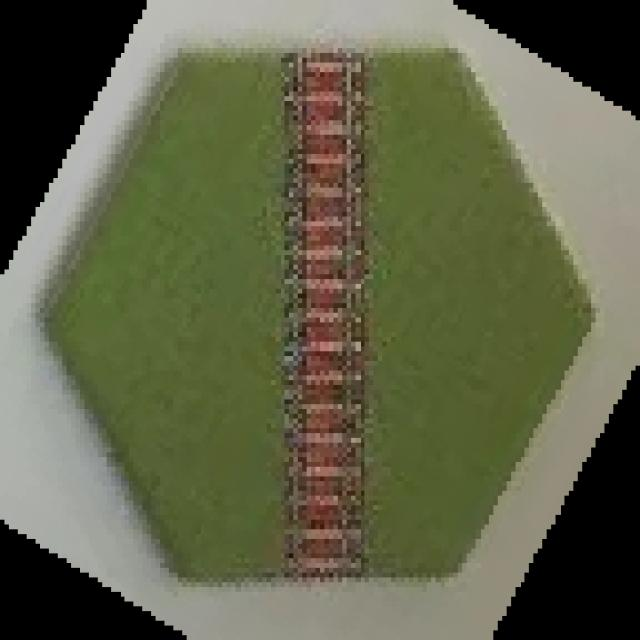3_1: (39, 45, 594, 577)
